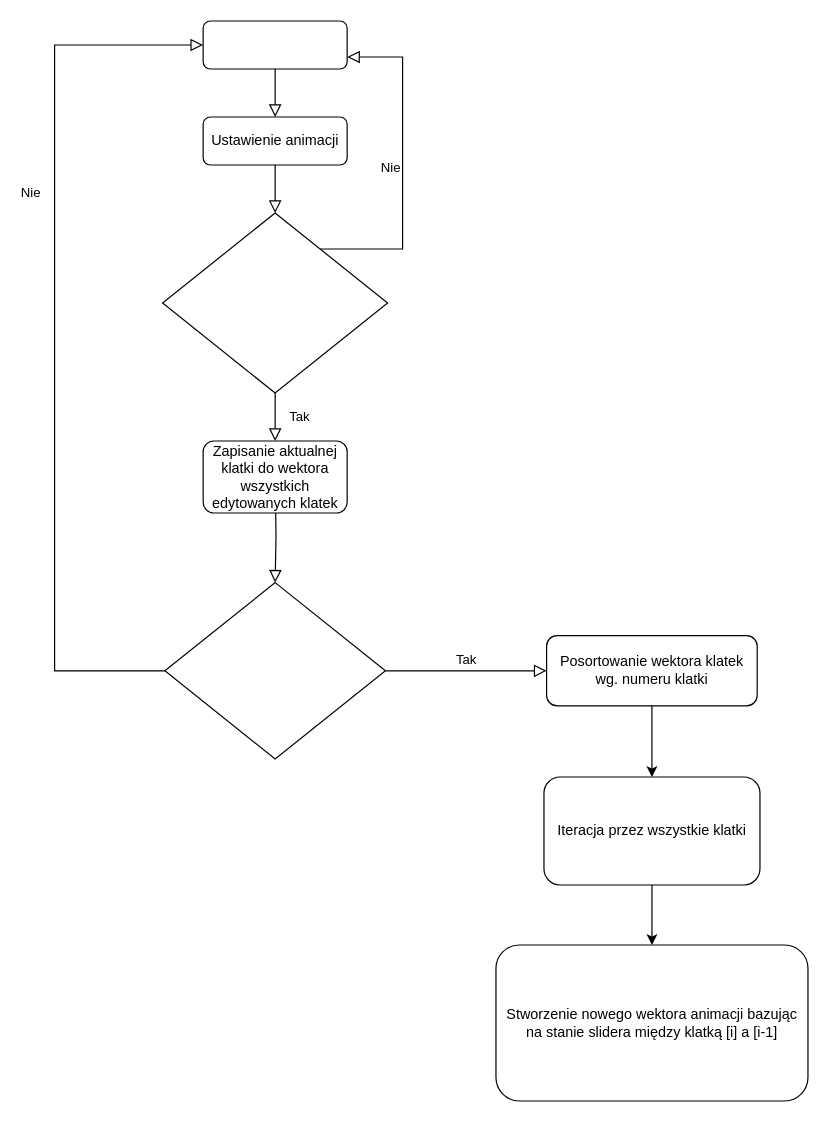
This 829x1122 diagram has some shape labels left out. Each missing label, with the centre of its shape:
Kliknięcie przycisku startu animacji "Start animation": (274,670)
Kliknięcie przycisku zapisania "Save frame configuration": (274,302)
Wybór klatki: (274,44)
